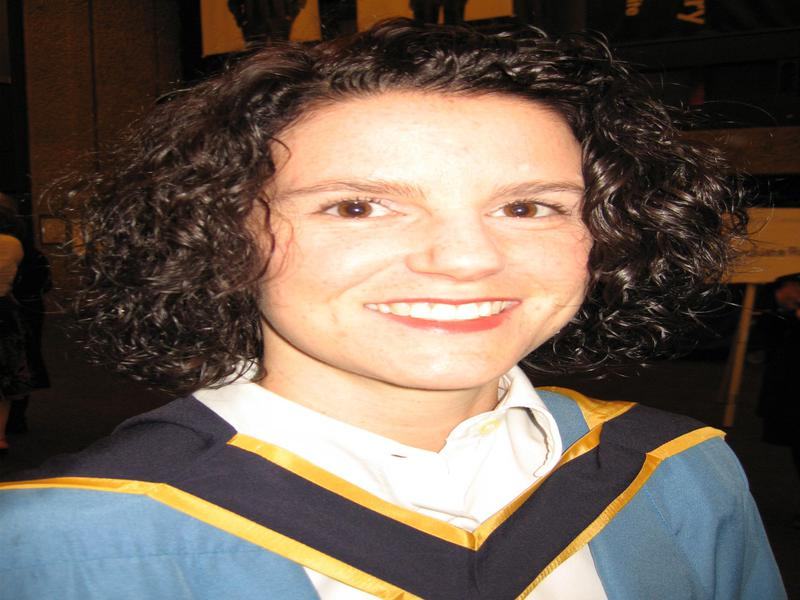person: (5, 20, 773, 600)
